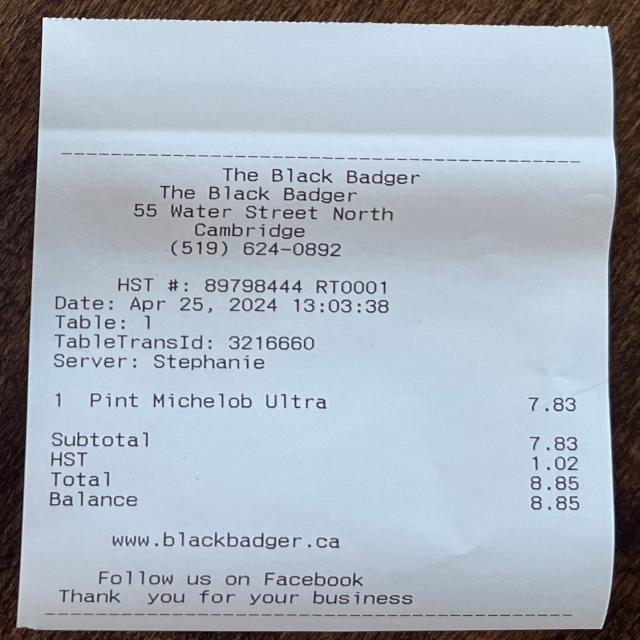item: (80, 387, 586, 418)
store_name: (217, 159, 430, 190)
total_amount: (44, 468, 590, 494)
transaction_date: (122, 292, 286, 317)
